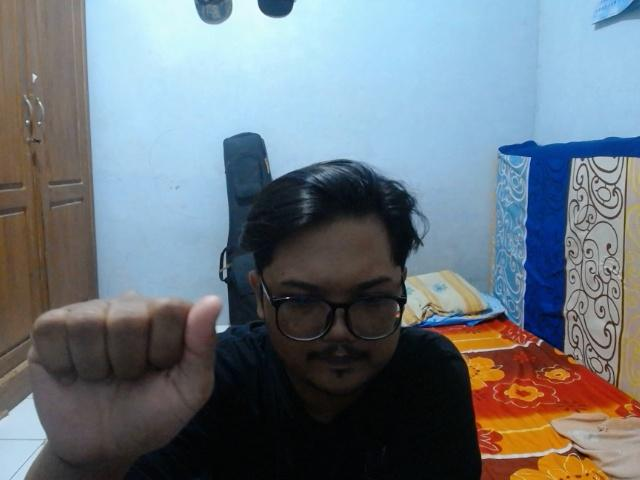Grab: (22, 286, 228, 466)
